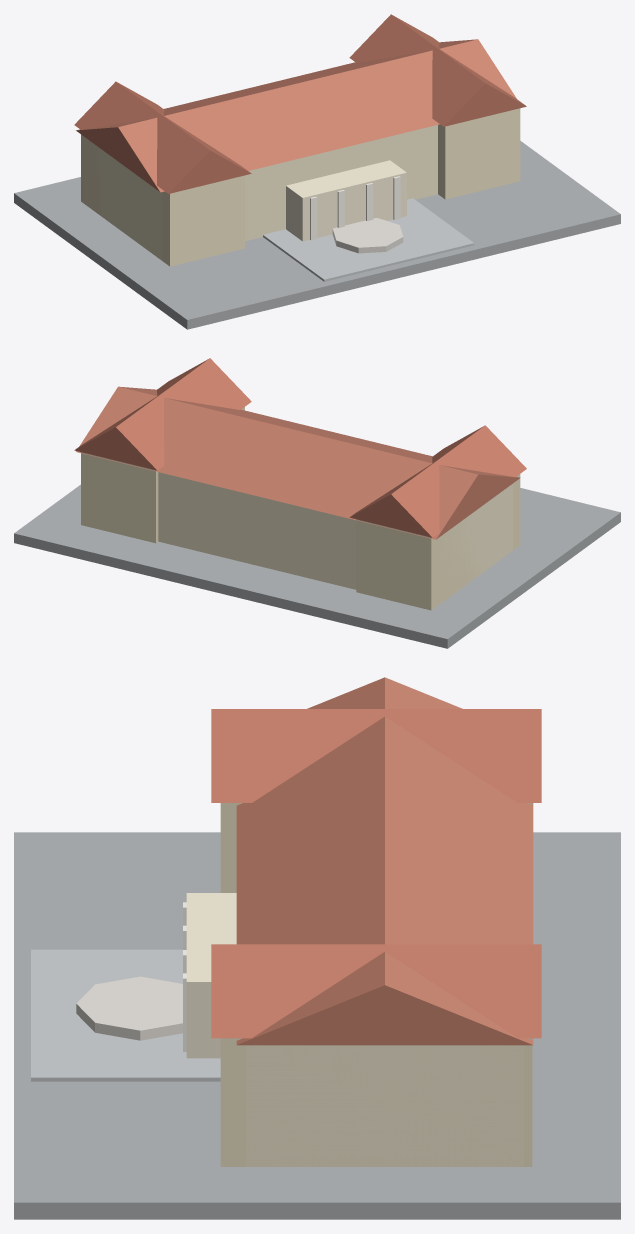
The model's file is lm_44_dinh_1_king_bao_dai_palace_1_complex.glb.
3 renders of one model, top to bottom at view 1: azimuth 30°, elevation 25°; view 2: azimuth 150°, elevation 25°; view 3: azimuth 270°, elevation 25°, orthographic. The views are drawn at different scales.
Parts seen in each view (by area): view 1: lm_44_dinh_1_king_bao_dai_palace_1_complex; view 2: lm_44_dinh_1_king_bao_dai_palace_1_complex; view 3: lm_44_dinh_1_king_bao_dai_palace_1_complex.
Boxes of the visible parts, x1,y1,x2,y2 form: lm_44_dinh_1_king_bao_dai_palace_1_complex: (14, 14, 620, 329); lm_44_dinh_1_king_bao_dai_palace_1_complex: (14, 358, 620, 648); lm_44_dinh_1_king_bao_dai_palace_1_complex: (14, 677, 620, 1219).
Size of the model in its own units: 52 by 13.6 by 36.
